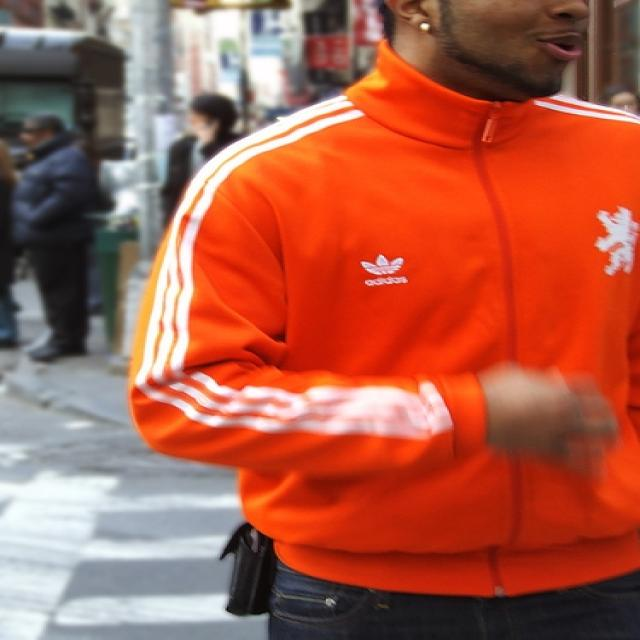adidas: (358, 251, 416, 292)
